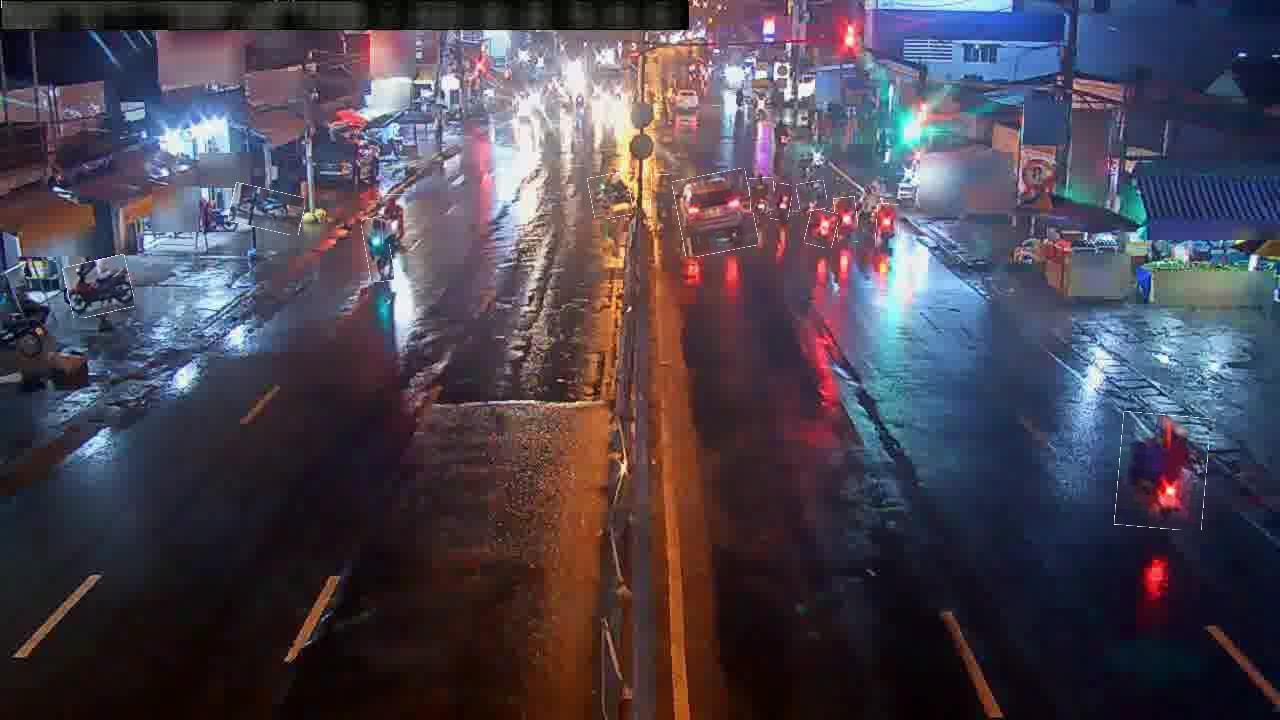container: (676, 171, 756, 255)
motorbike: (1117, 413, 1208, 530), (65, 257, 133, 316), (230, 186, 305, 233), (589, 173, 632, 219), (364, 217, 392, 283), (382, 194, 410, 245), (806, 210, 838, 248), (876, 204, 900, 249), (835, 197, 858, 243), (651, 174, 670, 223), (797, 181, 827, 211), (750, 178, 774, 213), (772, 184, 792, 221)
